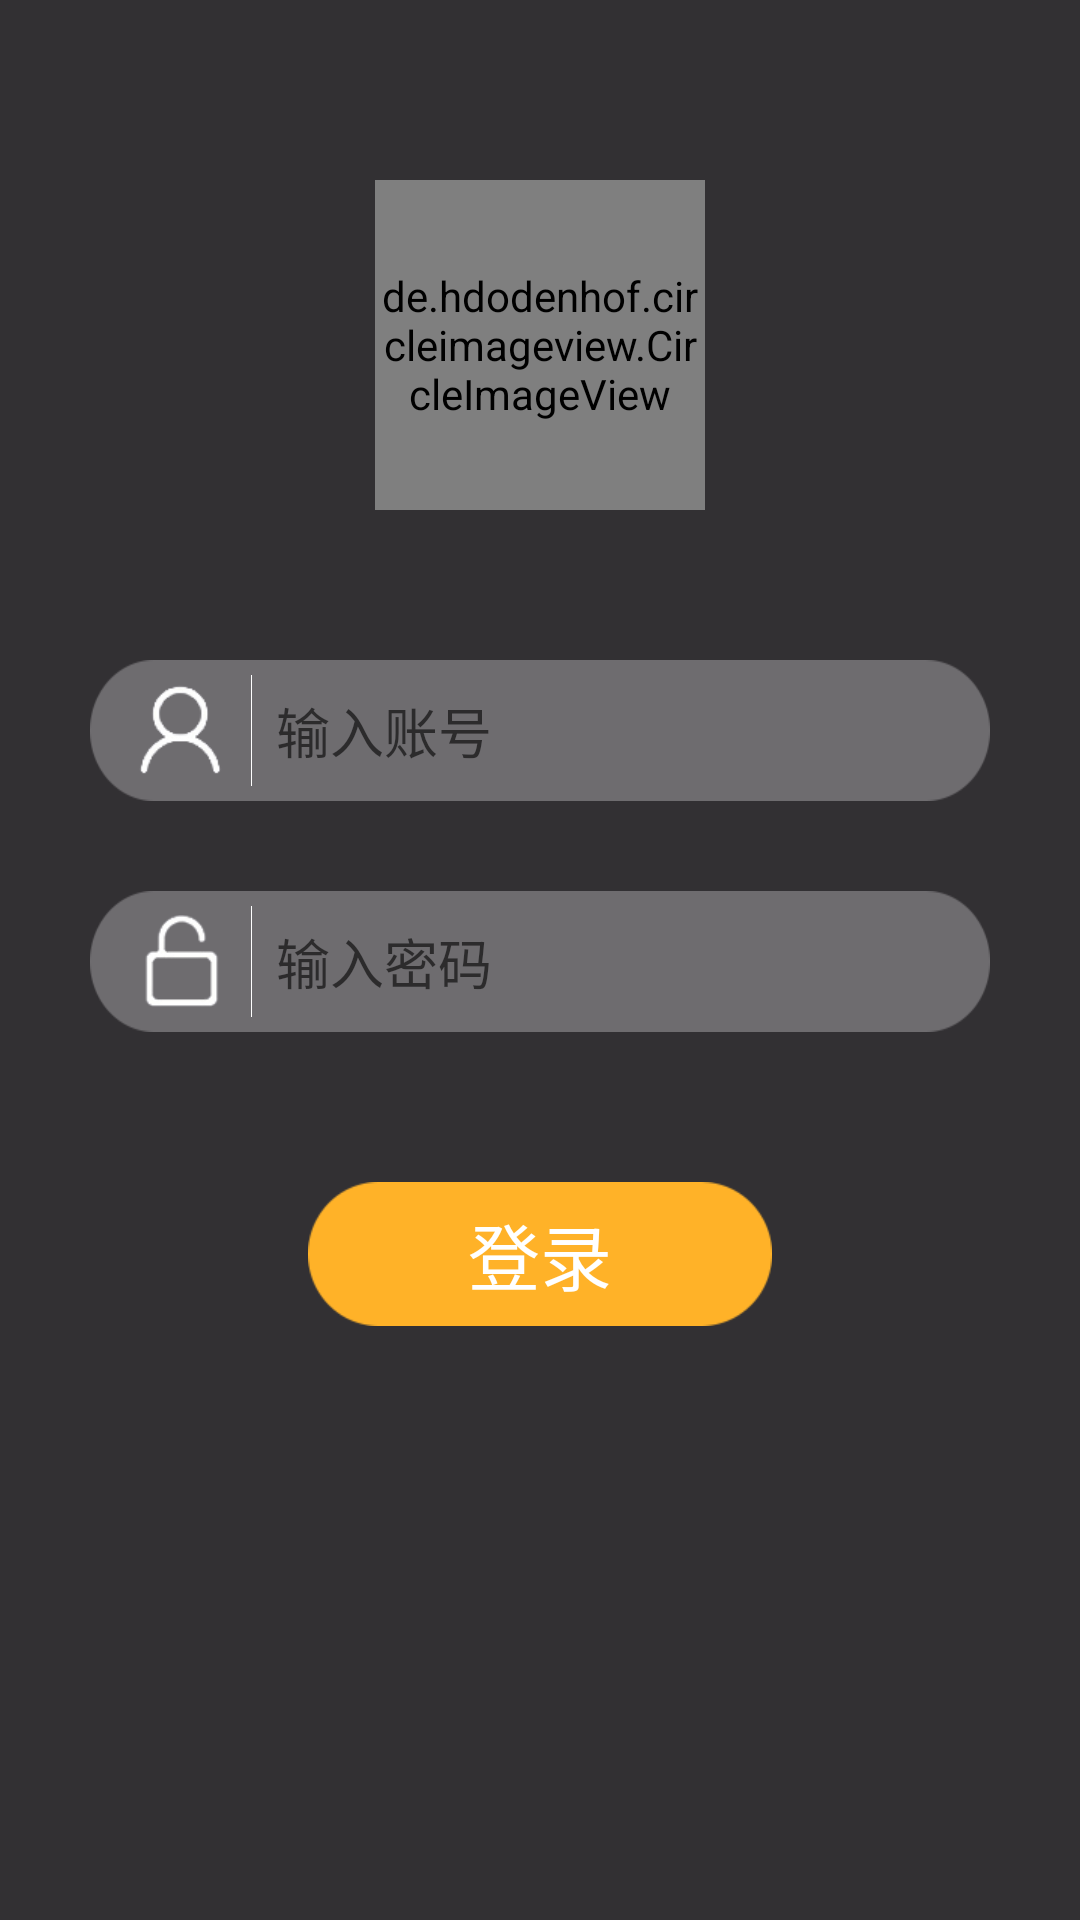

Screen size 1080w x 1920h. Icon name, then its center in pixels as (x=x, y=y):
login lock: (x=182, y=960)
